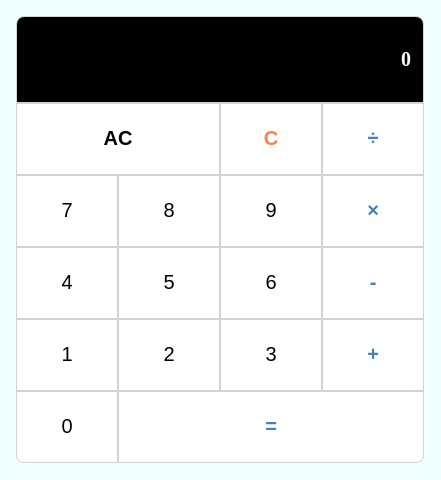
Test case: user can calculate via division
Click the button "6".
click(271, 282)  # box [221,248,321,318]
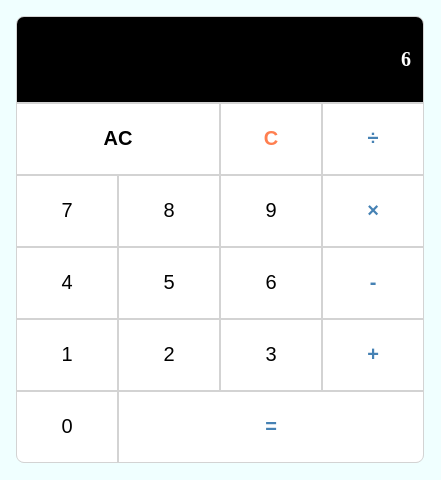
Click the button "÷".
click(373, 138)  # box [323,104,423,174]
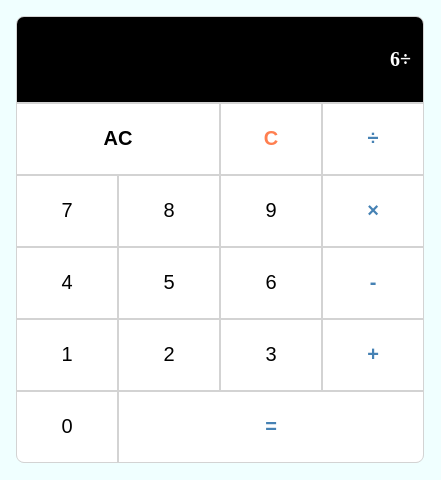
Click the button "3".
click(271, 354)  # box [221,320,321,390]
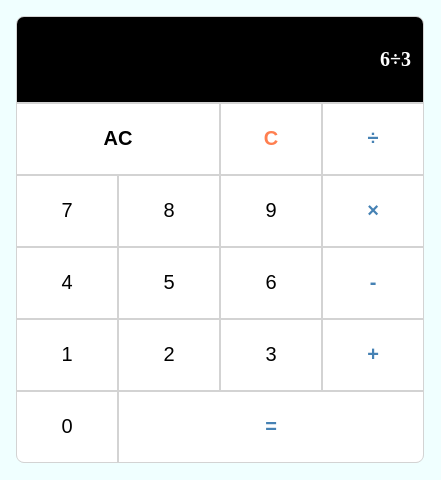
Click the button "=".
click(271, 426)  # box [119,392,423,462]
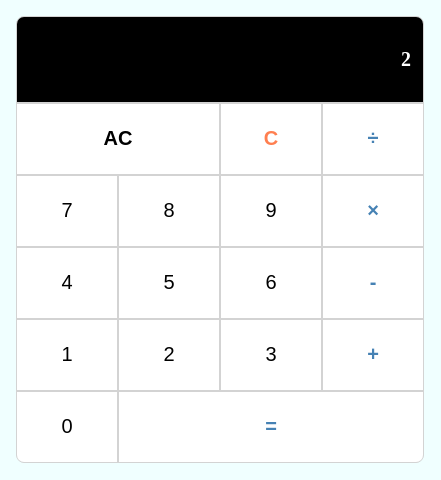
Expected: the text named "result" reads "2", [401,48,411,70]
